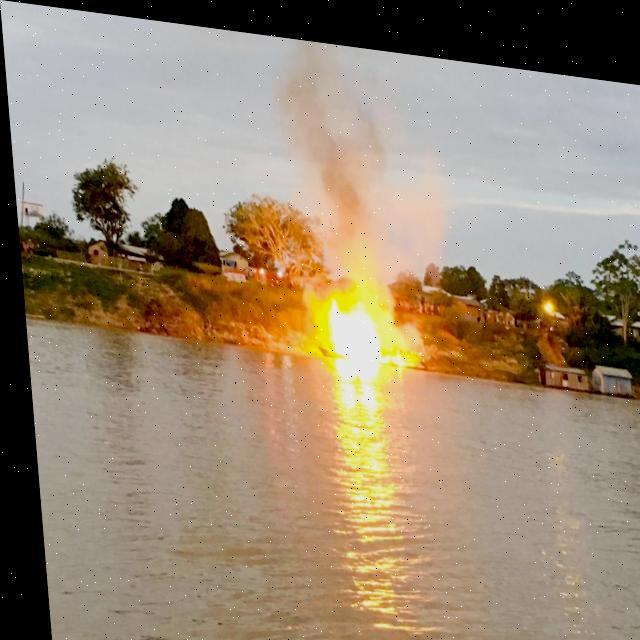Fire: (314, 282, 408, 358)
